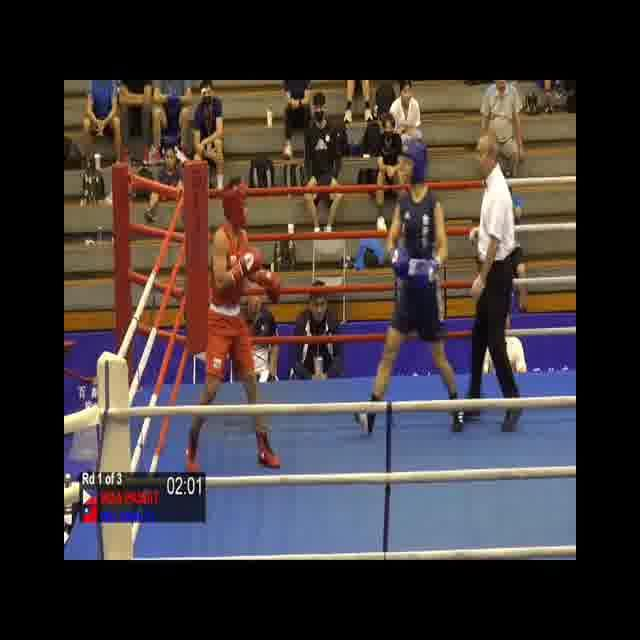blue-player: (351, 135, 467, 439)
red-player: (182, 183, 284, 480)
referee: (457, 130, 525, 433)
